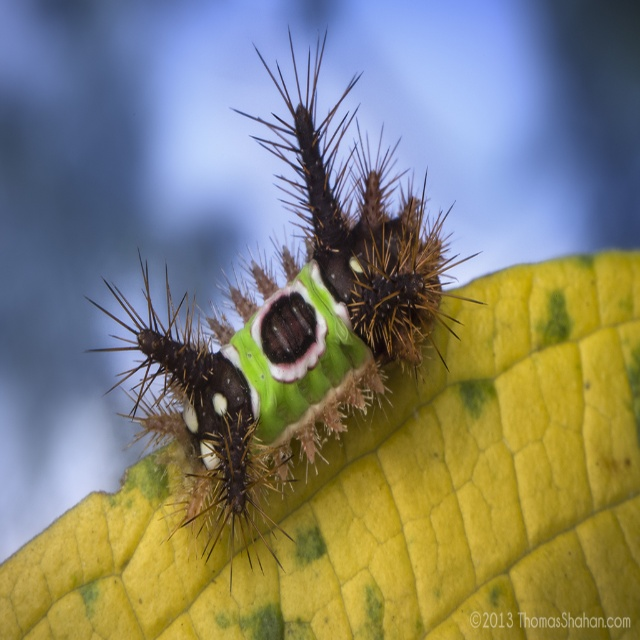Caterpillar: (72, 11, 514, 593)
